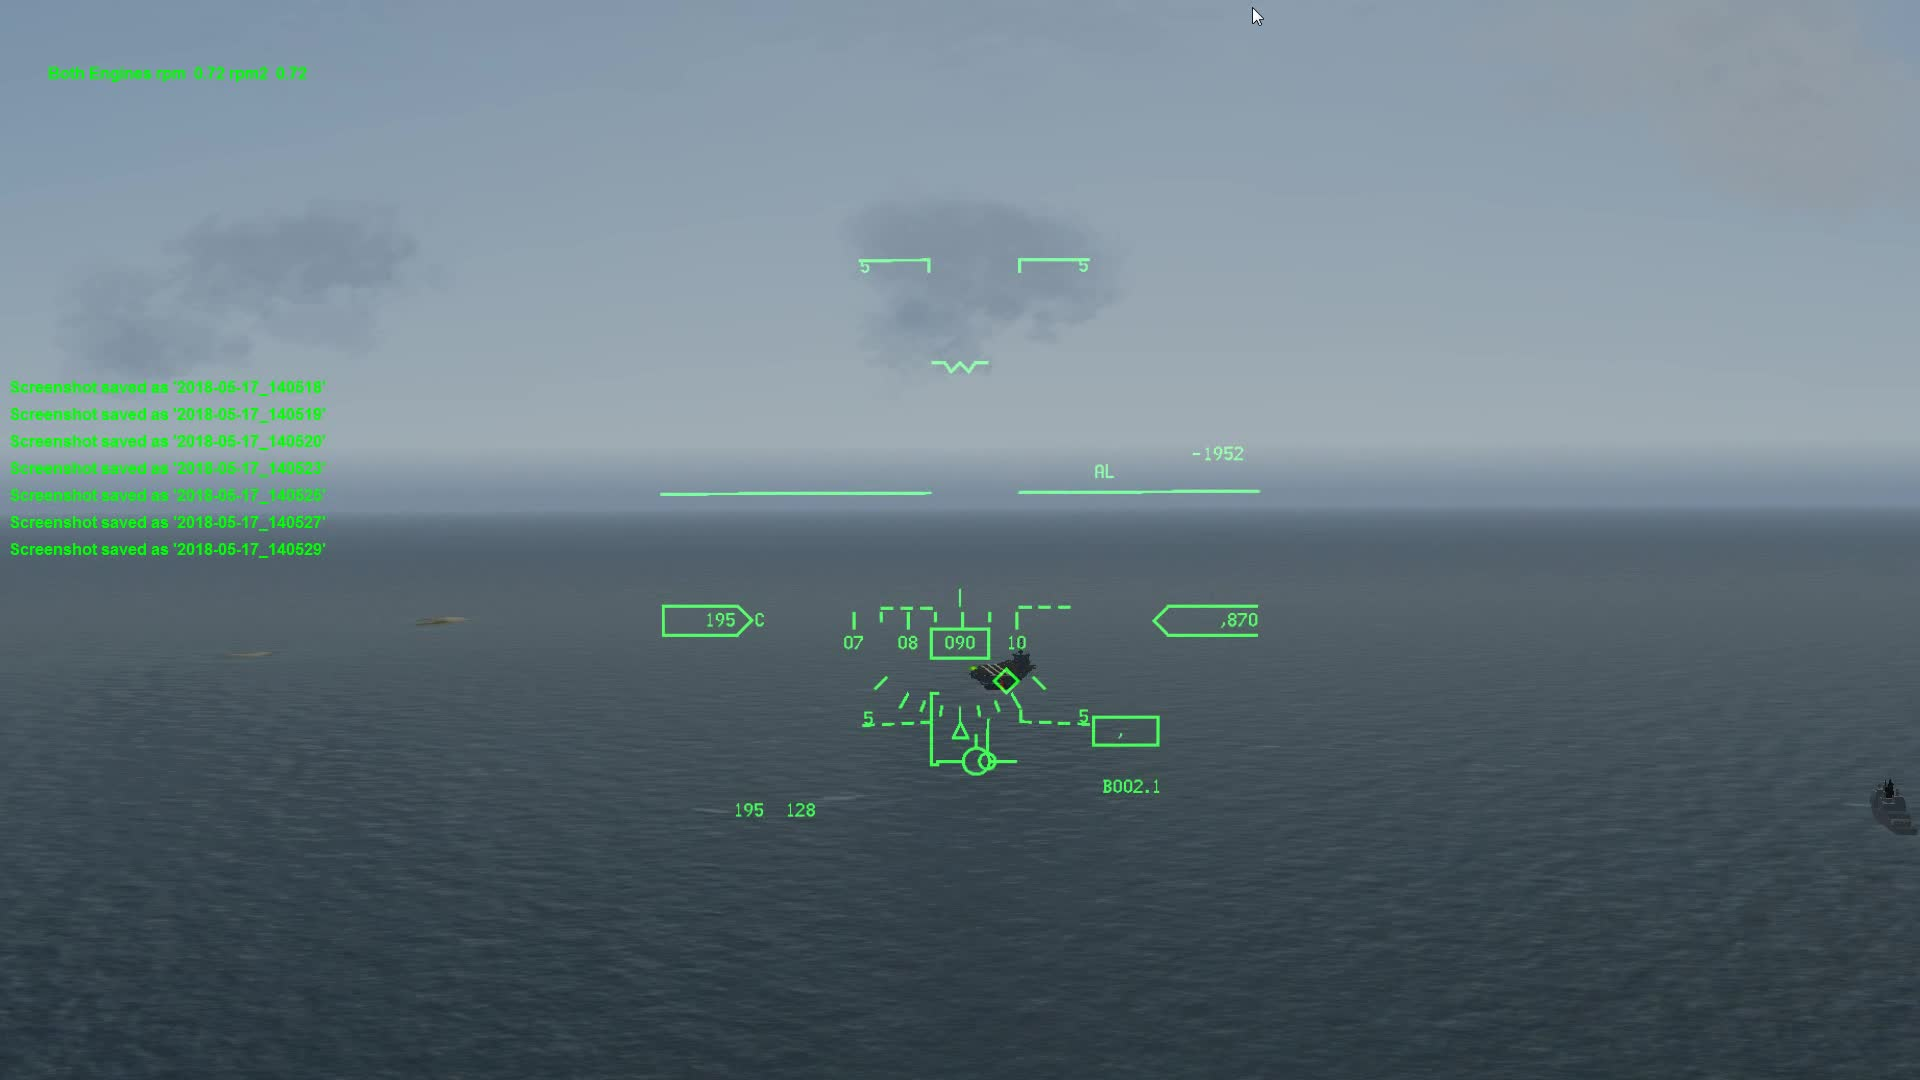speed vector: (938, 741, 1022, 781)
